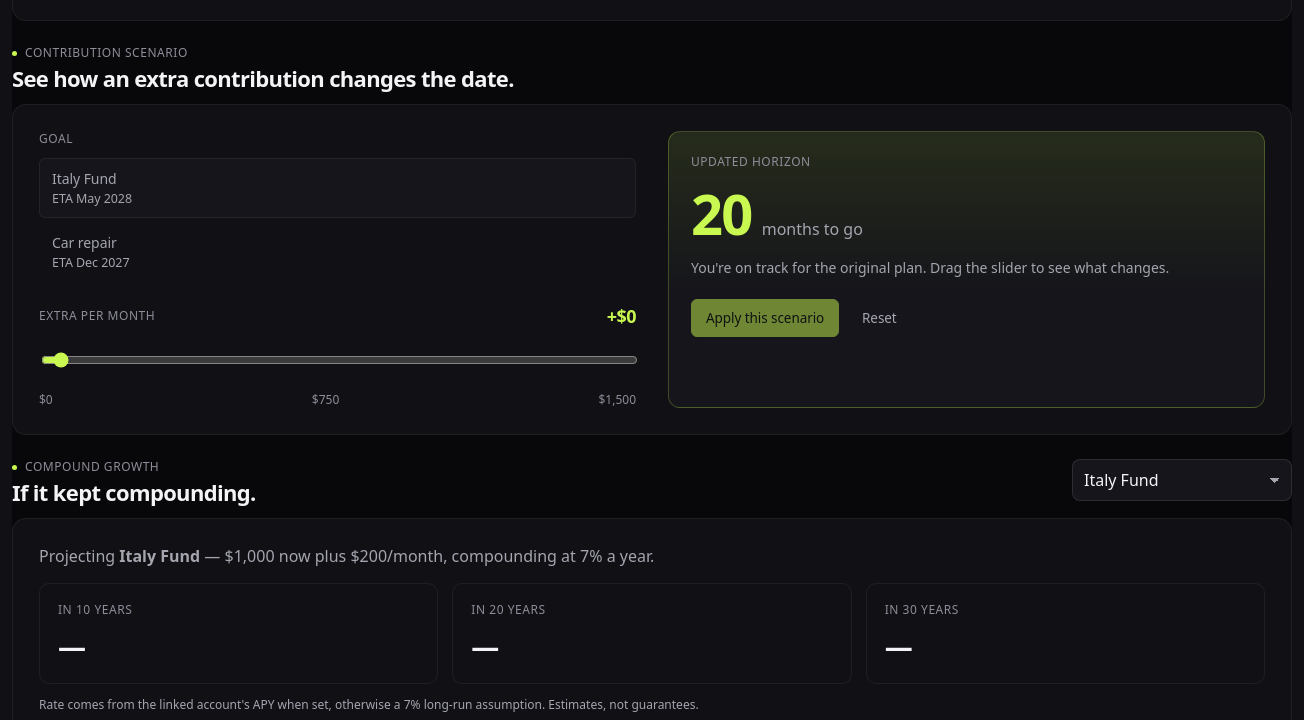
Goals — what-if scenario › resets the slider to 0 without applying
This screenshot has width=1304, height=720.
(page scrolled)
Set the slider named "Extra monthly contribution" to "500": (243, 360) top-left (41, 340), bottom-right (638, 380)
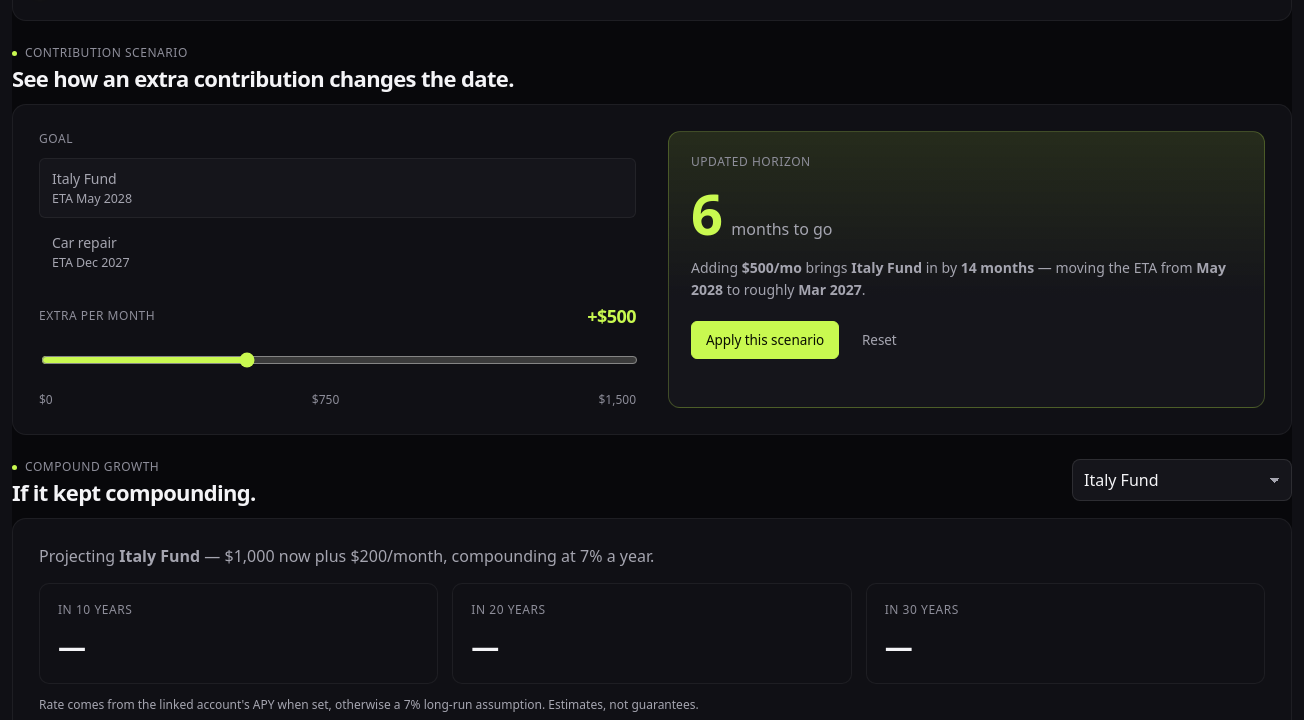
Click the button "Reset": (880, 340) top-left (847, 320), bottom-right (912, 358)
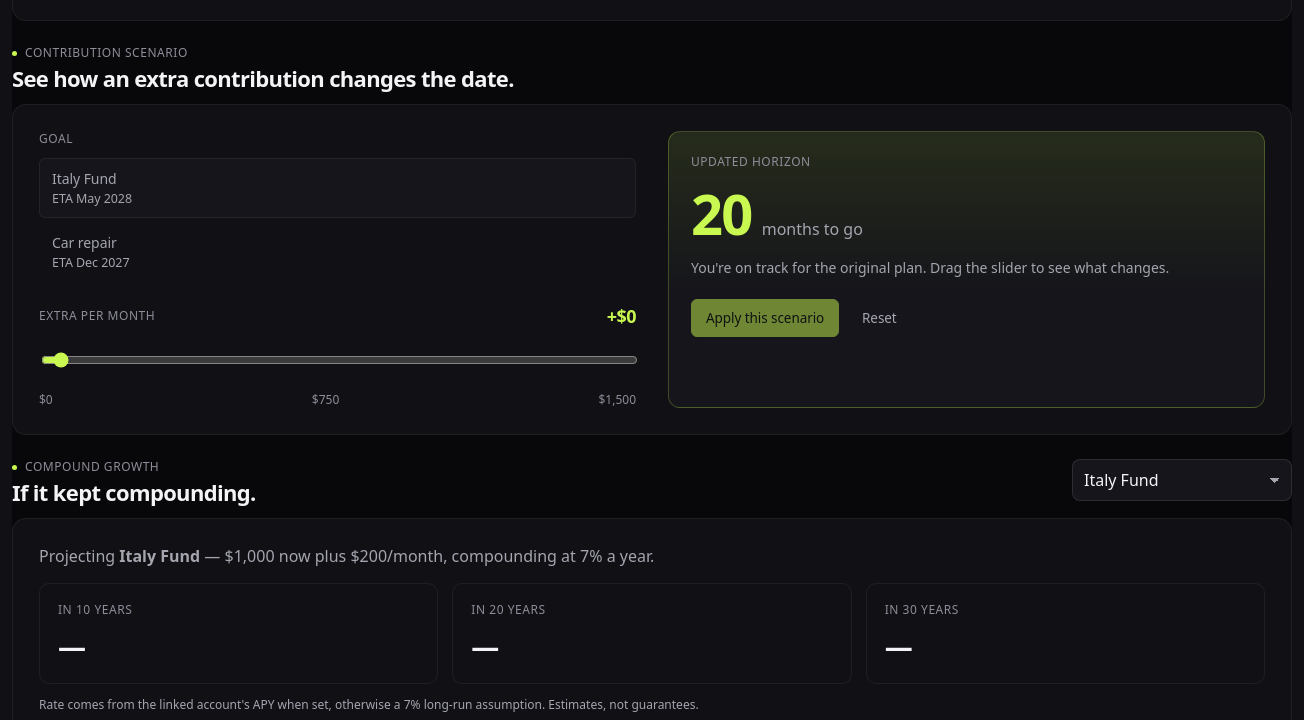
Expected: the slider named "Extra monthly contribution" holds "0", top-left (41, 340), bottom-right (638, 380)
